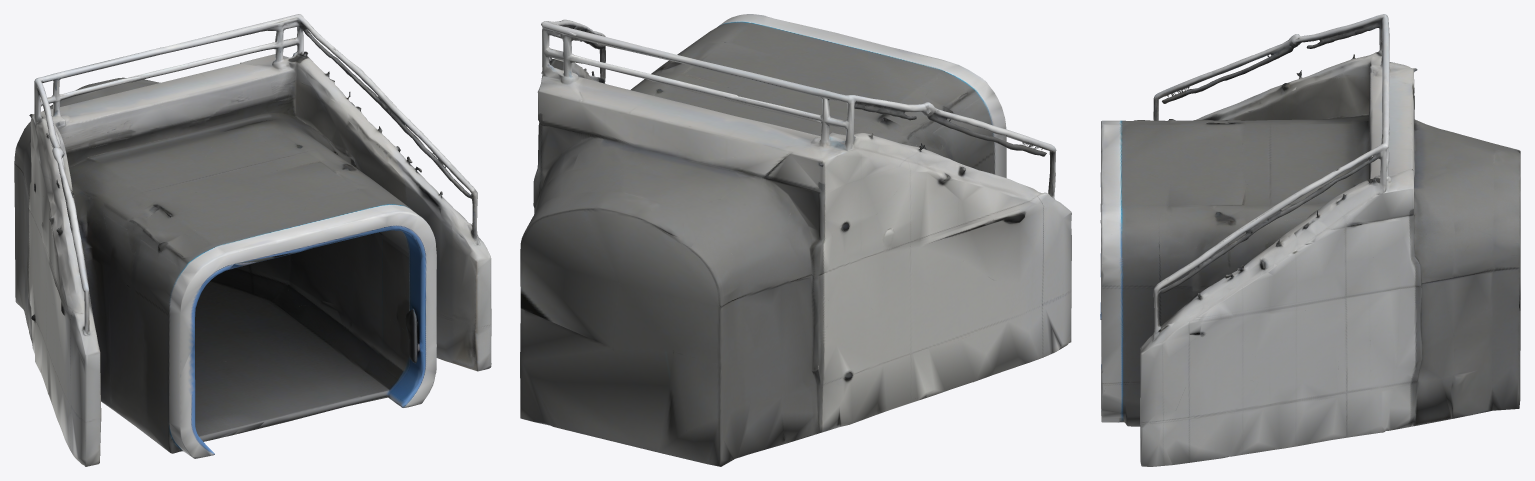
The model's file is tunnel.glb.
3 renders of one model, left to right at view 1: azimuth 30°, elevation 25°; view 2: azimuth 150°, elevation 25°; view 3: azimuth 270°, elevation 25°, orthographic. The views are drawn at different scales.
Size of the model in its own units: 2 by 1.33 by 1.77.
Materials: 1 (1 with a texture image).
